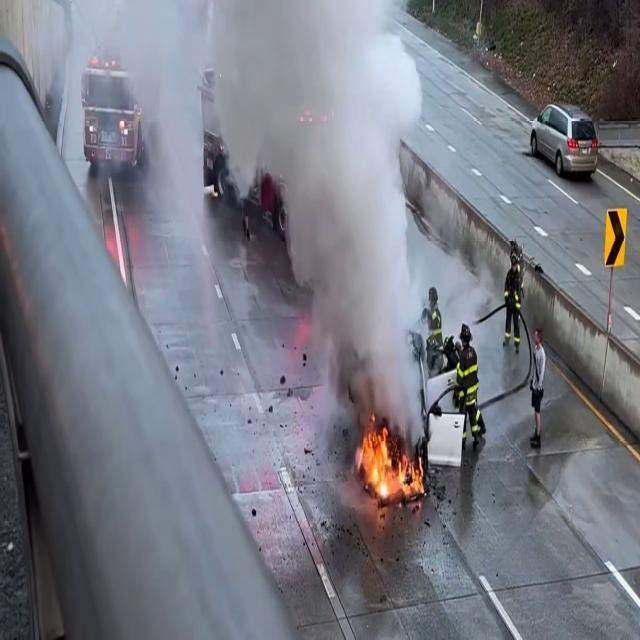Fire: (355, 415, 423, 508)
Smoke: (221, 0, 432, 432)
